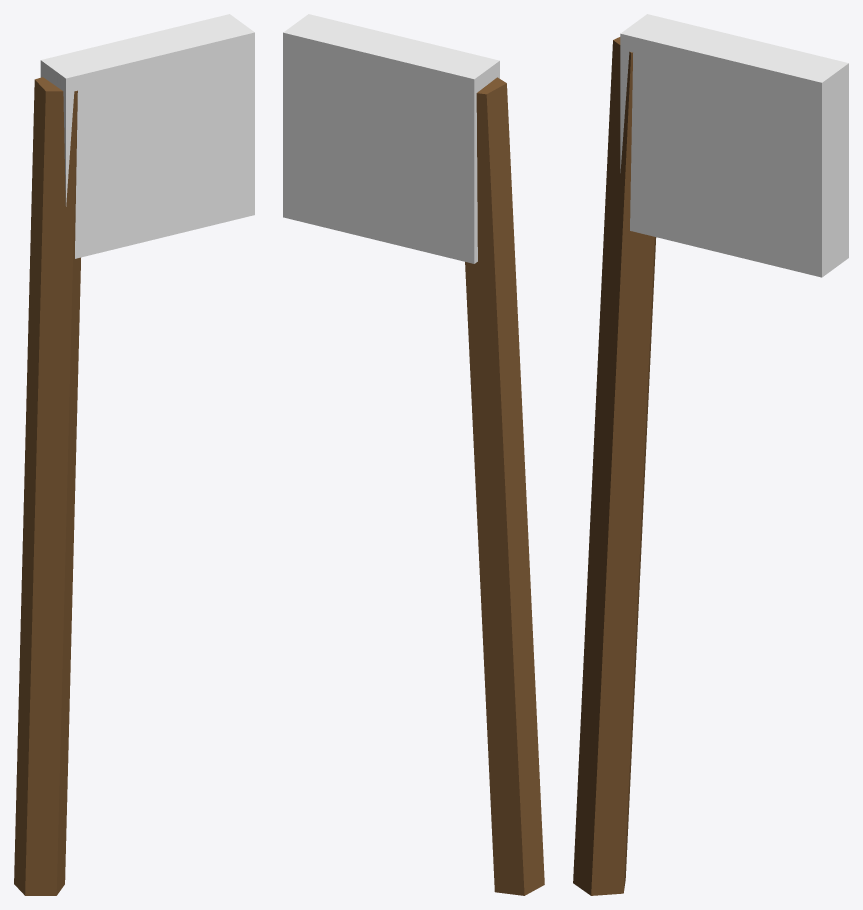
The model's file is tool_axe.glb.
3 renders of one model, left to right at view 1: azimuth 30°, elevation 25°; view 2: azimuth 150°, elevation 25°; view 3: azimuth 330°, elevation 25°, orthographic. The views are drawn at different scales.
Parts seen in each view (by area): view 1: part, part.001; view 2: part.001, part; view 3: part.001, part.
Part boxes in pixels (x1,y1,x2,y2): part: [14, 77, 80, 895]; part.001: [40, 14, 254, 258]; part.001: [283, 14, 499, 263]; part: [465, 77, 544, 895]; part.001: [620, 14, 848, 277]; part: [573, 37, 656, 895].
Size of the model in its own units: 0.1593 by 0.5306 by 0.0408.
